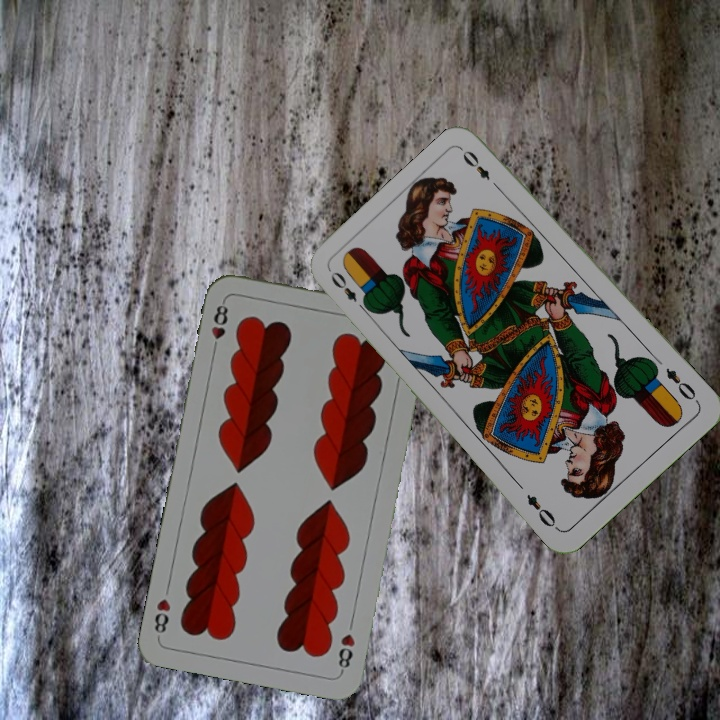EO: (326, 267, 371, 316), (661, 364, 702, 406)
H8: (207, 297, 231, 355), (334, 629, 358, 675)
